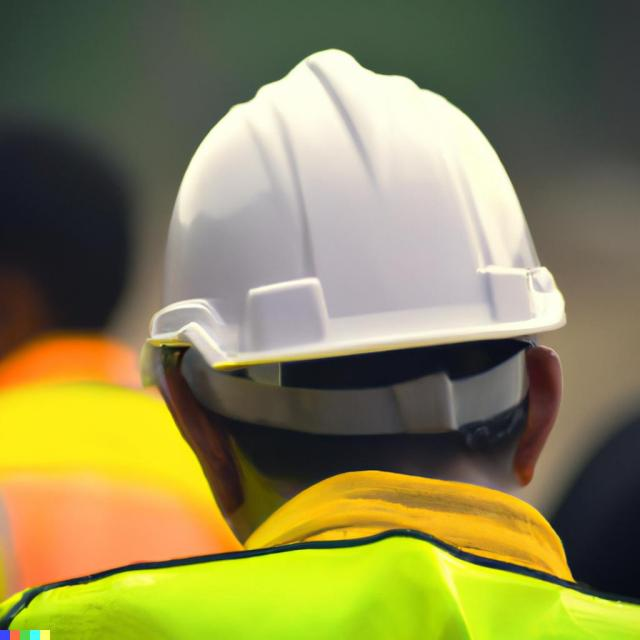Reflective-Jacket: (0, 417, 609, 639)
Safety-Helmet: (149, 46, 569, 381)
